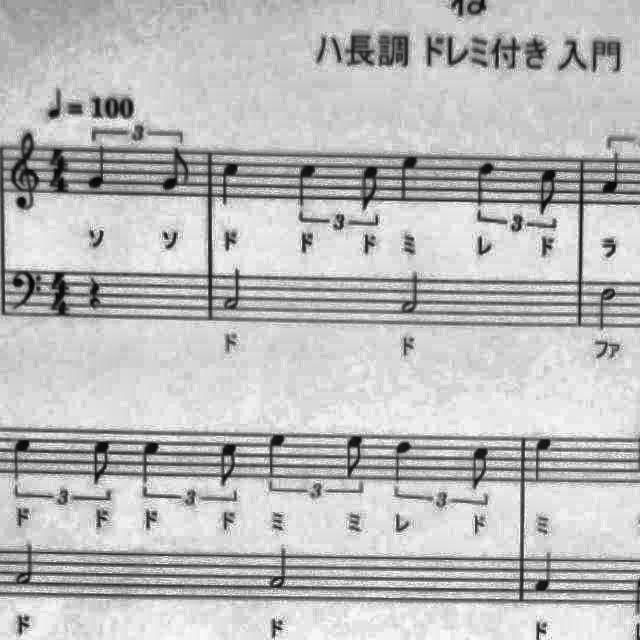Bass-clef: (6, 264, 44, 316)
Eighth-note: (158, 144, 195, 196), (86, 434, 120, 490), (353, 158, 387, 214), (532, 162, 564, 218), (212, 438, 244, 492), (340, 428, 372, 482), (464, 441, 496, 494), (46, 144, 74, 196)
Half-note: (218, 261, 250, 317), (592, 280, 622, 336), (395, 266, 427, 318), (265, 542, 295, 594), (10, 539, 38, 589)
Quarter-note: (525, 432, 559, 488), (471, 154, 504, 210), (392, 148, 424, 204), (5, 432, 38, 484), (290, 157, 322, 210), (260, 430, 292, 482), (134, 436, 166, 488), (215, 157, 245, 211), (387, 436, 417, 488), (530, 548, 562, 596), (597, 150, 627, 200), (87, 142, 113, 194)
Quarter-rest: (84, 272, 108, 312)
Treble-clef: (4, 128, 44, 216)
